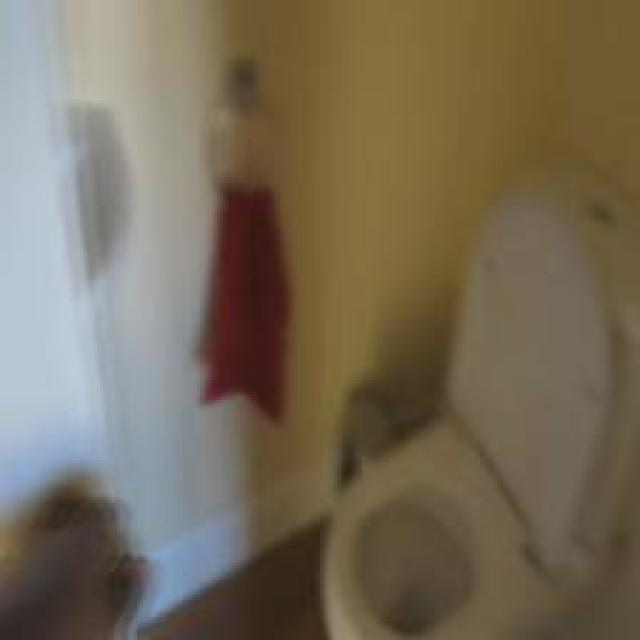other: (165, 181, 364, 428)
